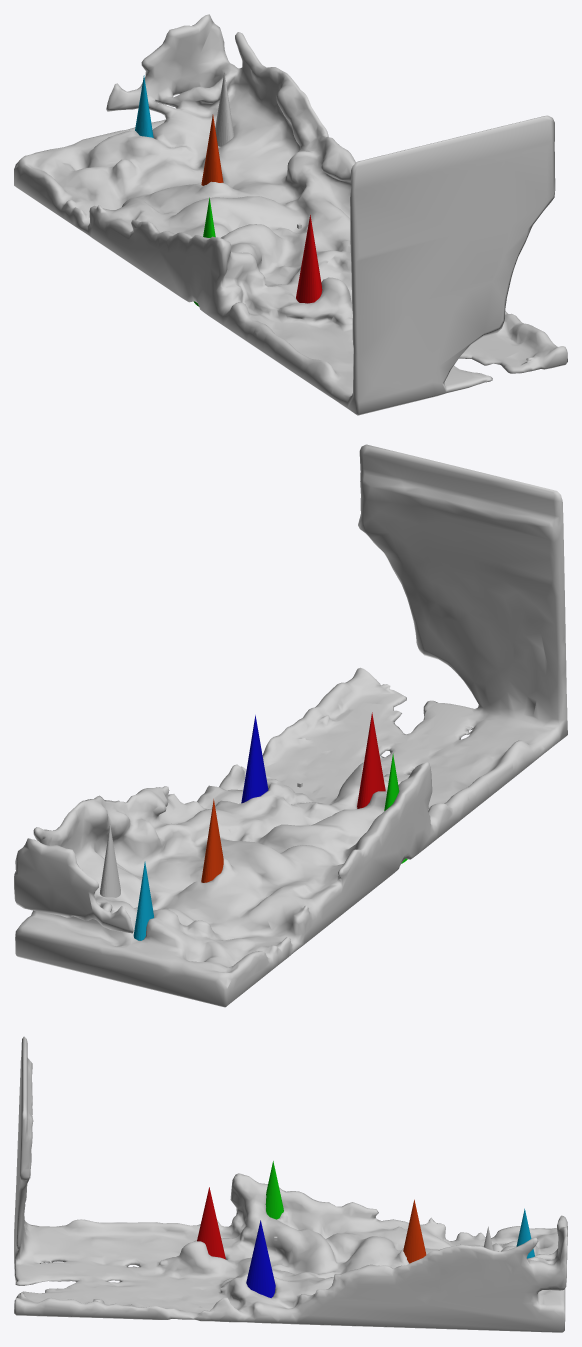
3 views of the same model, one above another, from view 1: azimuth 30°, elevation 25°; view 2: azimuth 150°, elevation 25°; view 3: azimuth 270°, elevation 25° (orthographic). The views are drawn at different scales.
Visible parts, largest first — view 1: Liquid_Domain, 円錐.001, 円錐, 円錐.004, 円錐.005; view 2: Liquid_Domain, 円錐.001, 円錐.002, 円錐.004, 円錐, 円錐.005; view 3: Liquid_Domain, 円錐.002, 円錐.001, 円錐.004, 円錐.003.
Boxes of the visible parts, bbox=[...] form: Liquid_Domain: bbox=[14, 14, 567, 415]; 円錐.001: bbox=[296, 215, 322, 303]; 円錐: bbox=[215, 71, 233, 146]; 円錐.004: bbox=[201, 114, 223, 185]; 円錐.005: bbox=[135, 75, 153, 137]; Liquid_Domain: bbox=[14, 444, 567, 1007]; 円錐.001: bbox=[357, 712, 385, 808]; 円錐.002: bbox=[241, 715, 268, 803]; 円錐.004: bbox=[201, 799, 223, 882]; 円錐: bbox=[100, 824, 120, 897]; 円錐.005: bbox=[133, 861, 153, 940]; Liquid_Domain: bbox=[14, 1036, 567, 1332]; 円錐.002: bbox=[246, 1220, 275, 1297]; 円錐.001: bbox=[197, 1187, 225, 1259]; 円錐.004: bbox=[403, 1199, 426, 1263]; 円錐.003: bbox=[265, 1161, 283, 1219].
Bounding box in the file's own units: 129 × 158 × 363.
